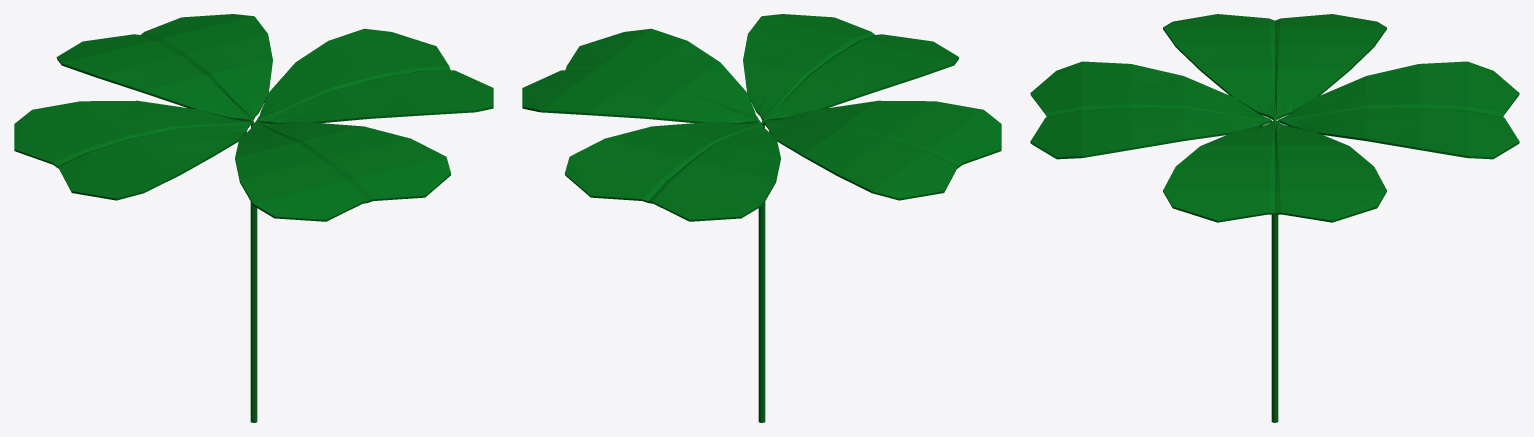
File: e07e131e-8a59-4a31-b7e6-67be2fff42f4.glb
3 views of the same model, side by side, from view 1: azimuth 30°, elevation 25°; view 2: azimuth 150°, elevation 25°; view 3: azimuth 270°, elevation 25° (orthographic).
Visible parts, largest first — view 1: Node; view 2: Node; view 3: Node.
Boxes of the visible parts, x1,y1,x2,y2 form: Node: (14,14,493,422); Node: (522,14,1001,422); Node: (1030,14,1519,422).
Bounding box in the file's own units: 2.2 × 1.56 × 2.2.
